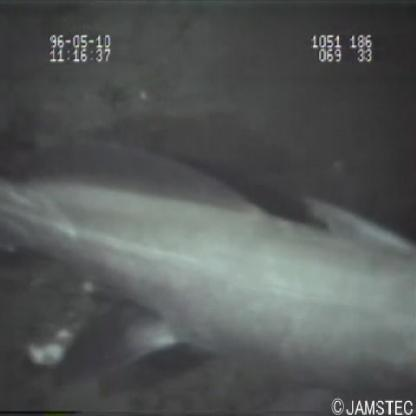Bio: (1, 135, 415, 416)
